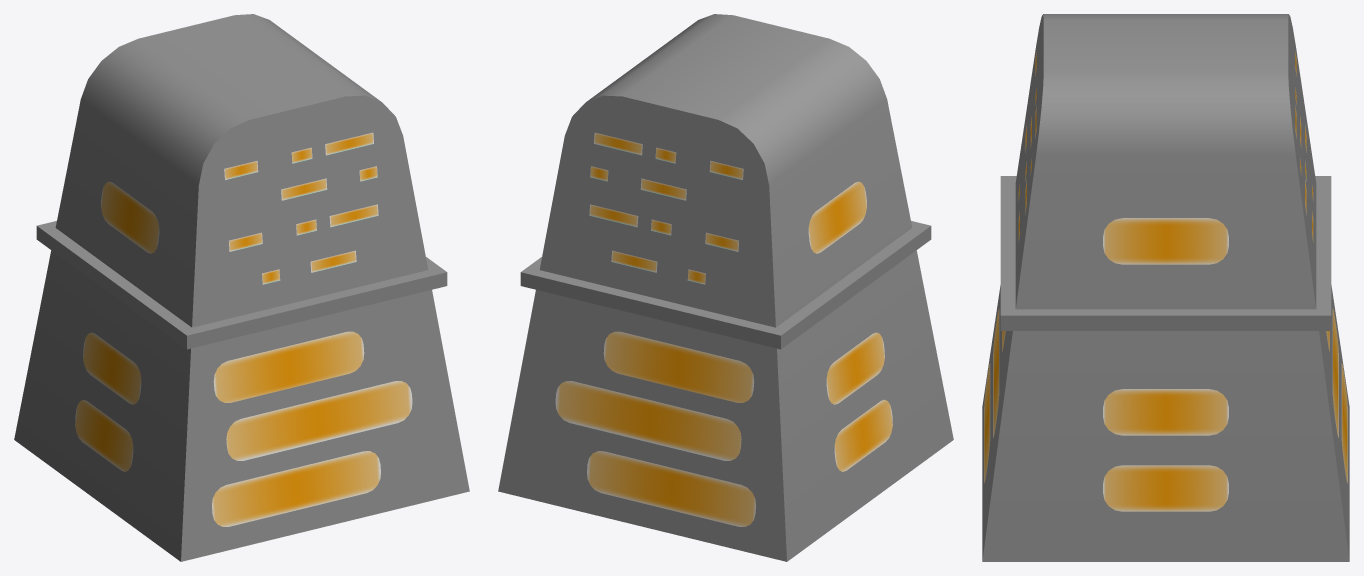
The model's file is Building_031.fbx.
3 renders of one model, left to right at view 1: azimuth 30°, elevation 25°; view 2: azimuth 150°, elevation 25°; view 3: azimuth 270°, elevation 25°, orthographic. The views are drawn at different scales.
Parts seen in each view (by area): view 1: Building_031; view 2: Building_031; view 3: Building_031.
Boxes of the visible parts, x1,y1,x2,y2 form: Building_031: (14,14,469,561); Building_031: (498,14,953,561); Building_031: (982,14,1349,561).
Bounding box in the file's own units: 20.75 × 27.32 × 20.75.
Materials: 2 (1 with a texture image).
